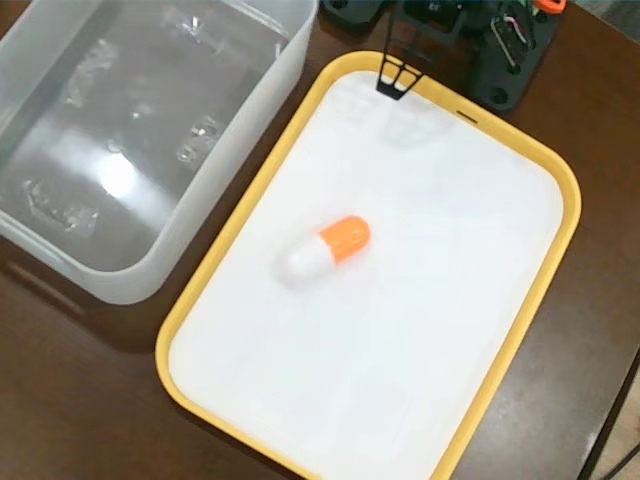pill: (278, 208, 373, 282)
